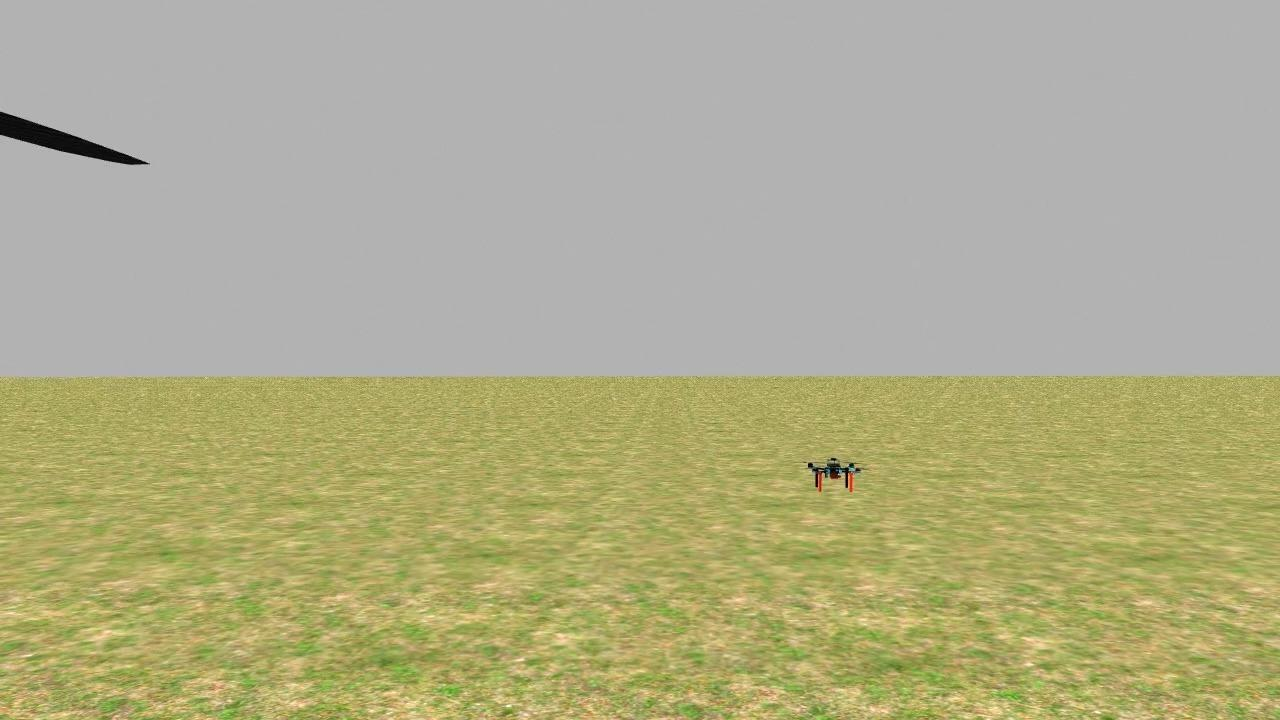UAV: (786, 434, 886, 509)
